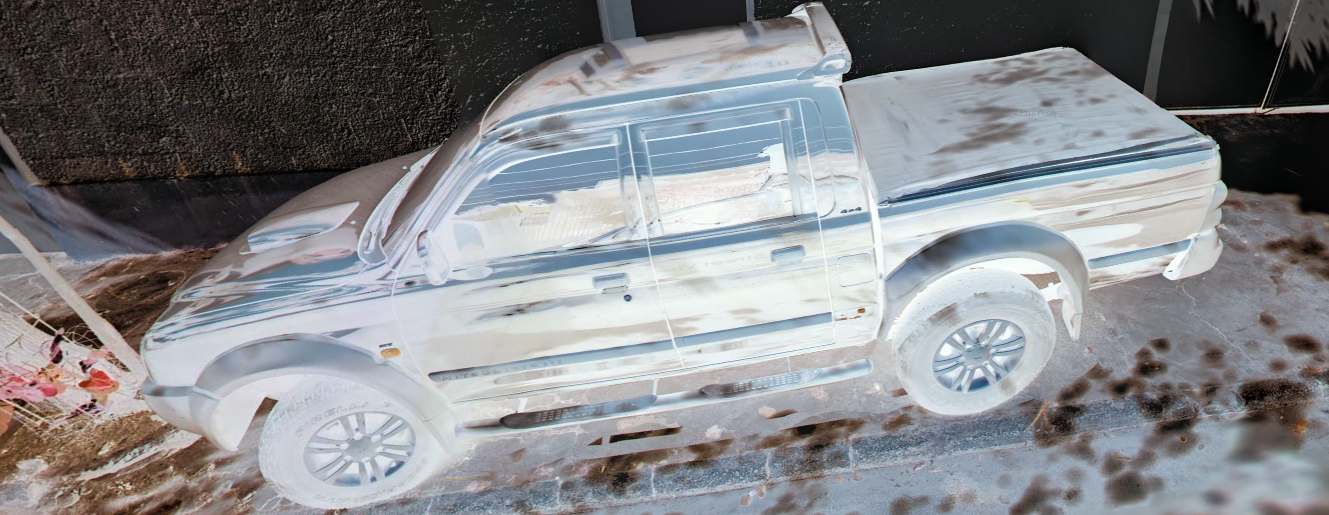car: (145, 19, 1226, 508)
